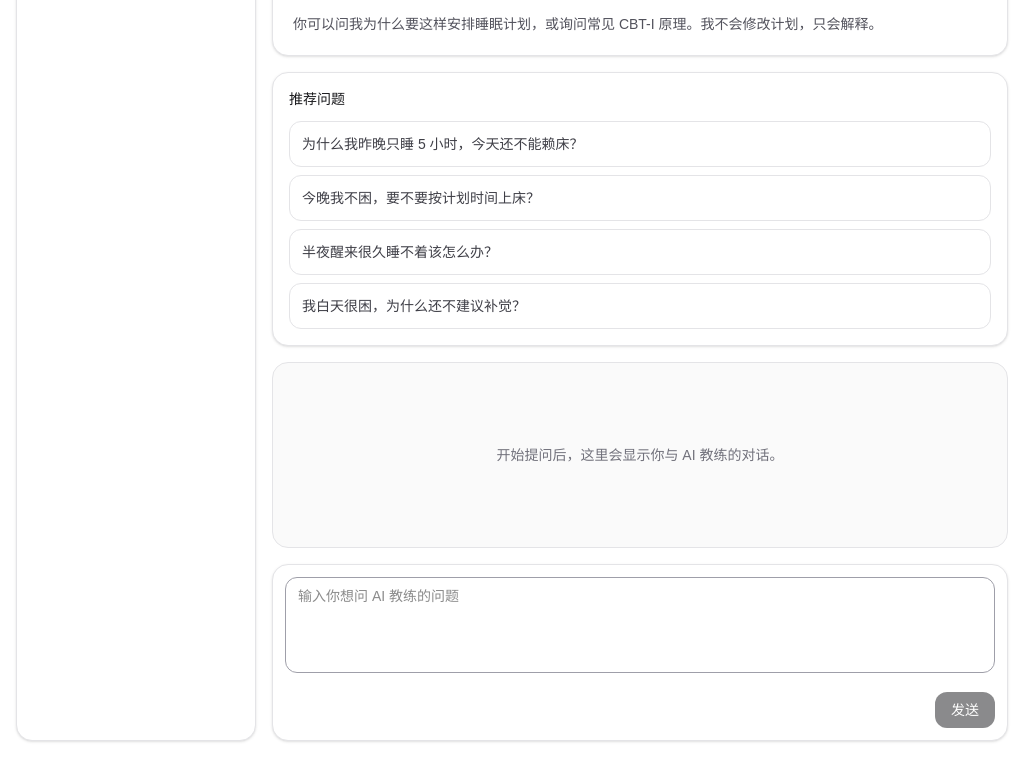
Test: CoachShell › 有 active plan 时卡片展示两条计划相关提示；点击后填入、聚焦且不自动发送
(page scrolled)
Type "原有草稿" into the text box.
click(640, 625); type("原有草稿")  # box [285, 577, 995, 673]
(page scrolled)
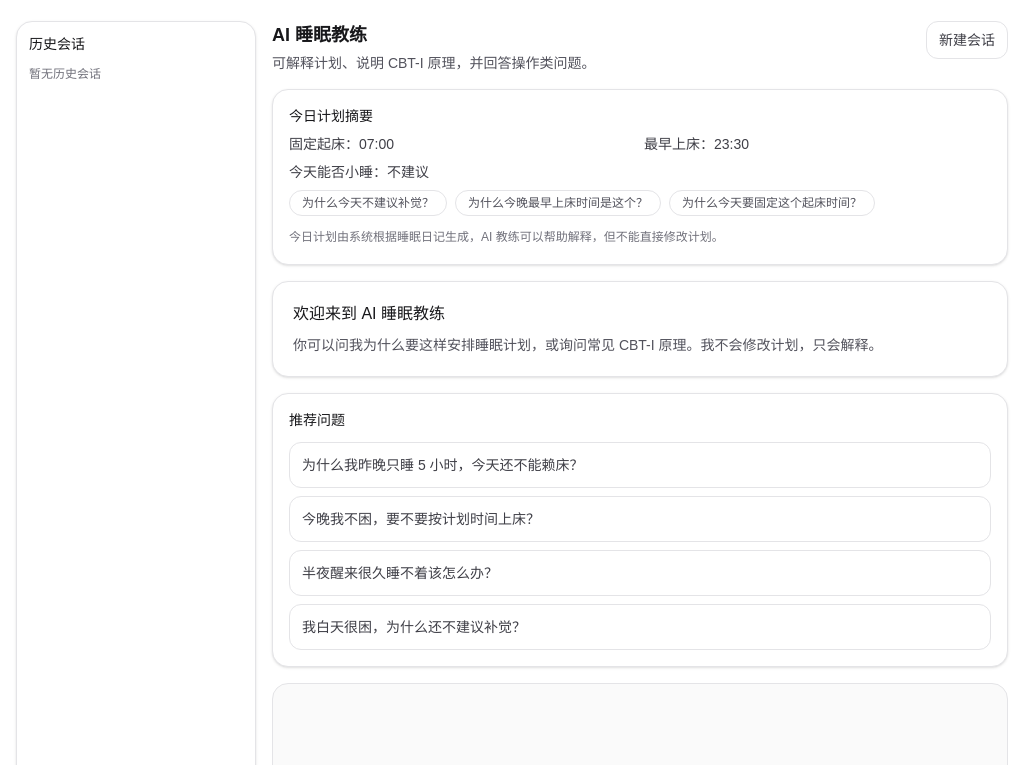
Click the button "为什么今天不建议补觉？".
click(368, 203)  # box [289, 190, 447, 216]
(page scrolled)
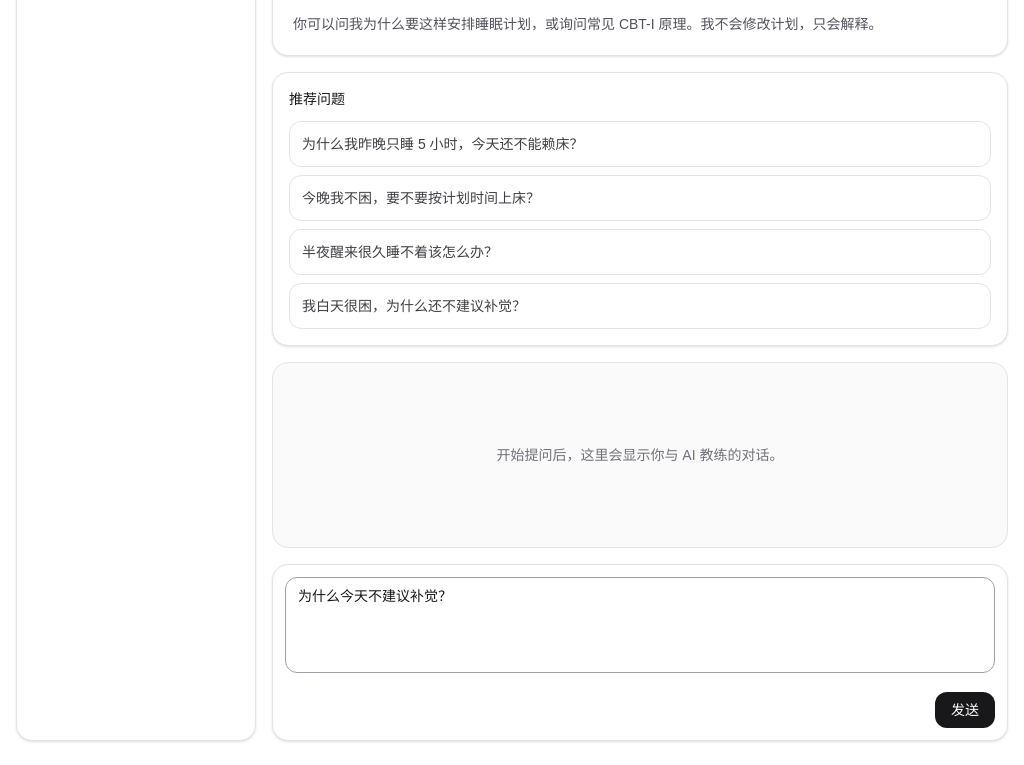
Result: the text box holds "为什么今天不建议补觉？" at [285, 577, 995, 673]
